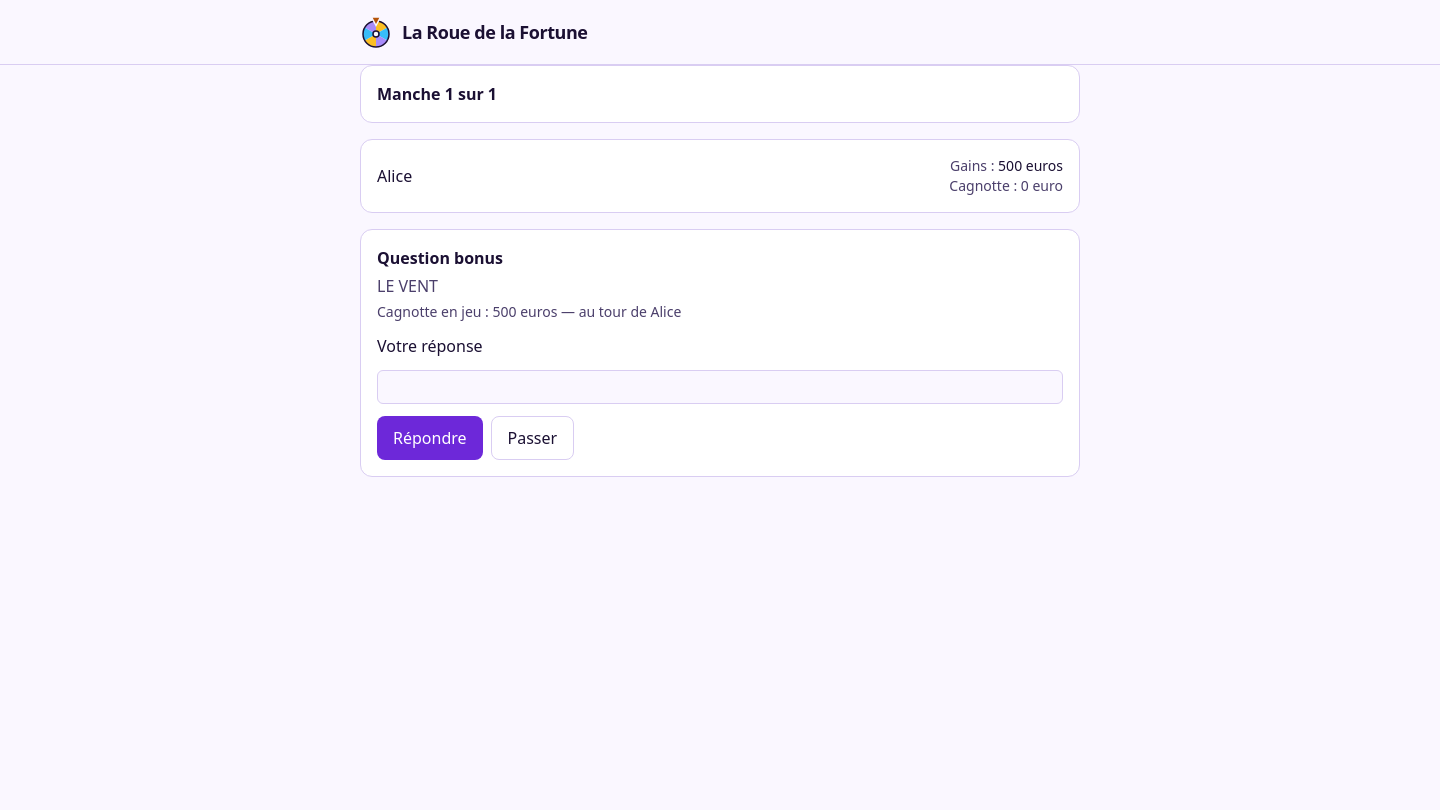
Test case: GameRoute › étape bonus › « Répondre » appelle answerBonus : la réponse part vers le juge
Step 1. Type "une réponse" into the field labelled "Votre réponse" → {"x": 720, "y": 387}, box [377, 370, 1063, 404]
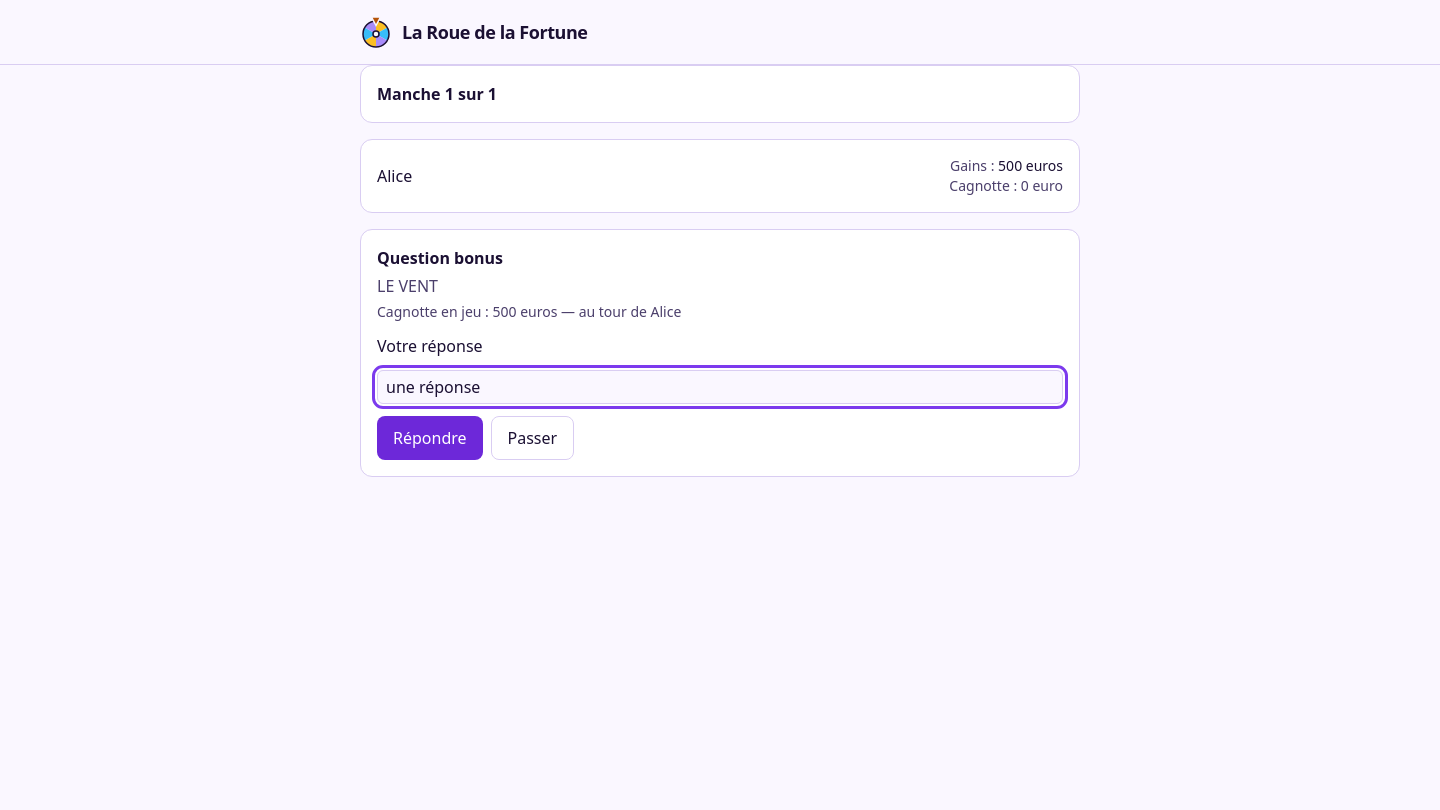
Step 2. Click the button "Répondre" → {"x": 430, "y": 438}, box [377, 416, 482, 460]
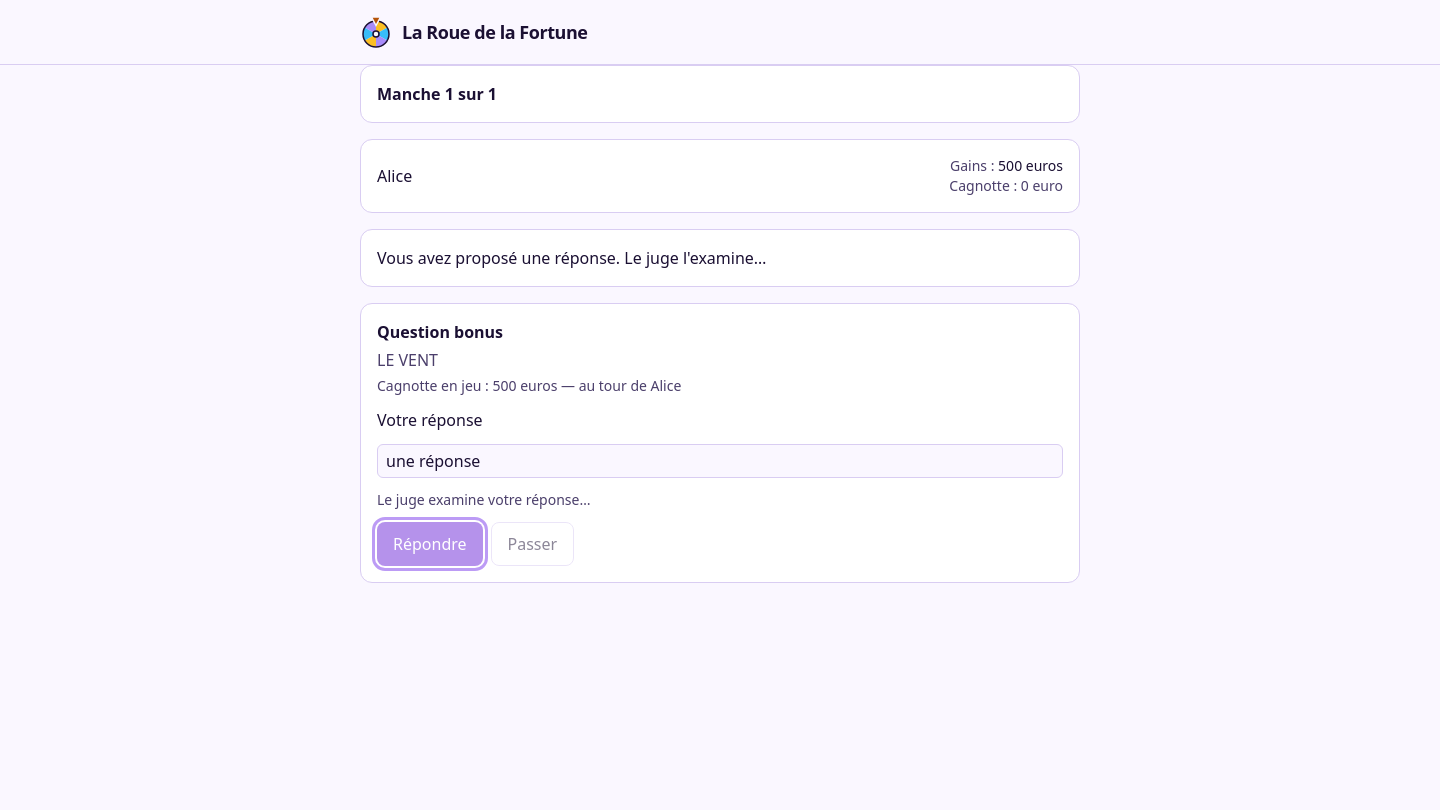
expect the text "Le juge examine votre réponse…" is shown: met, box [377, 490, 590, 509]
